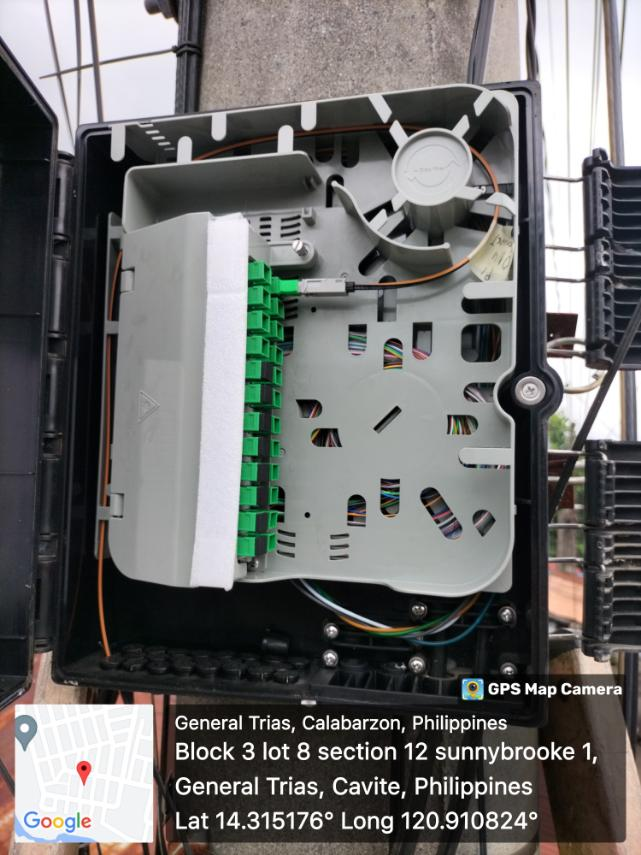no dust cap: (262, 287, 271, 308), (263, 263, 271, 283), (276, 321, 284, 341), (261, 337, 269, 357), (262, 312, 270, 331), (268, 533, 276, 552), (277, 298, 284, 319), (275, 346, 283, 364), (275, 367, 283, 385), (271, 487, 279, 504), (274, 389, 281, 408), (271, 464, 279, 480), (269, 512, 277, 528), (273, 417, 280, 433), (273, 441, 280, 457)
occupied: (279, 278, 356, 297)
vacant: (254, 537, 268, 556), (261, 385, 273, 405), (259, 438, 271, 457), (256, 487, 268, 506), (255, 513, 267, 532), (261, 363, 273, 382), (258, 463, 269, 481), (260, 414, 271, 431)
